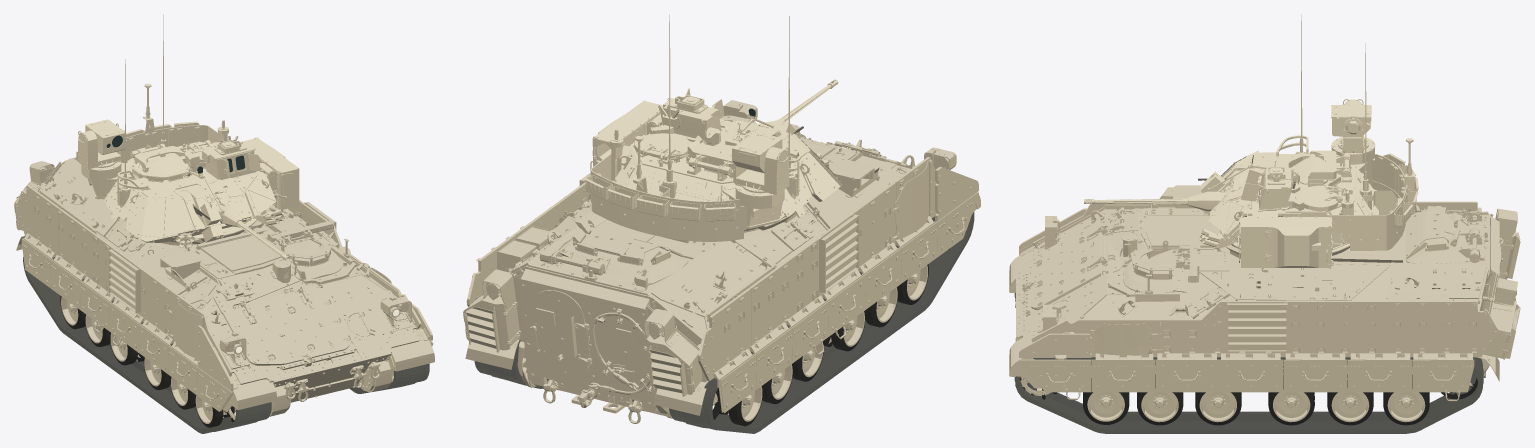
File: m3a3_bradley_refit.glb
The picture shows the model from 3 angles, left to right: view 1: azimuth 30°, elevation 25°; view 2: azimuth 150°, elevation 25°; view 3: azimuth 270°, elevation 25°; orthographic projection. The views are drawn at different scales.
Visible parts, largest first — view 1: WT_@root, WT_bone_turret, WT_hatch_06, WT_track_r, WT_hatch_01, WT_roll_05, WT_hatch_02, WT_ex_decor_r_05, WT_ex_armor_03, WT_ex_decor_l_04, WT_ex_armor_r_04, WT_ex_armor_r_05 (+19 smaller); view 2: WT_@root, WT_bone_turret, WT_rear_ramp, WT_track_r, WT_hatch_04, WT_hatch_05, WT_ex_decor_r_04, WT_ex_decor_l_09, WT_roll_05, WT_ex_armor_03, WT_ex_armor_r_05, WT_ex_armor_r_04 (+18 smaller); view 3: WT_@root, WT_bone_turret, WT_track_l, WT_roll_05, WT_hatch_06, WT_hatch_05, WT_hatch_01, WT_ex_armor_l_03, WT_ex_armor_l_04, WT_ex_armor_l_05, WT_ex_armor_l_06, WT_ex_armor_l_02 (+20 smaller).
Boxes of the visible parts, x1,y1,x2,y2 form: WT_@root: (17,151,432,416); WT_bone_turret: (81,83,284,247); WT_hatch_06: (222,286,351,365); WT_track_r: (23,257,271,433); WT_hatch_01: (275,230,342,279); WT_roll_05: (241,137,299,209); WT_hatch_02: (130,143,188,174); WT_ex_decor_r_05: (223,379,276,412); WT_ex_armor_03: (78,123,123,169); WT_ex_decor_l_04: (390,339,434,371); WT_ex_armor_r_04: (109,302,140,352); WT_ex_armor_r_05: (80,281,110,333); WT_@root: (466,124,978,418); WT_bone_turret: (584,88,842,241); WT_rear_ramp: (518,267,657,413); WT_track_r: (669,212,974,433); WT_hatch_04: (529,290,591,380); WT_hatch_05: (552,228,688,284); WT_ex_decor_r_04: (643,305,707,396); WT_ex_decor_l_09: (463,269,523,352); WT_roll_05: (590,100,662,170); WT_ex_armor_03: (733,138,789,194); WT_ex_armor_r_05: (790,300,828,363); WT_ex_armor_r_04: (827,274,865,339); WT_@root: (1012,185,1497,377); WT_bone_turret: (1199,135,1418,255); WT_track_l: (1014,357,1483,433); WT_roll_05: (1241,209,1333,268); WT_hatch_06: (1030,220,1105,310); WT_hatch_05: (1405,206,1479,263); WT_hatch_01: (1123,240,1187,292); WT_ex_armor_l_03: (1155,359,1219,392); WT_ex_armor_l_04: (1219,359,1283,392); WT_ex_armor_l_05: (1284,359,1347,392); WT_ex_armor_l_06: (1348,359,1411,392); WT_ex_armor_l_02: (1092,359,1155,392).
Size of the model in its own units: 3.43 by 4.77 by 6.58.
